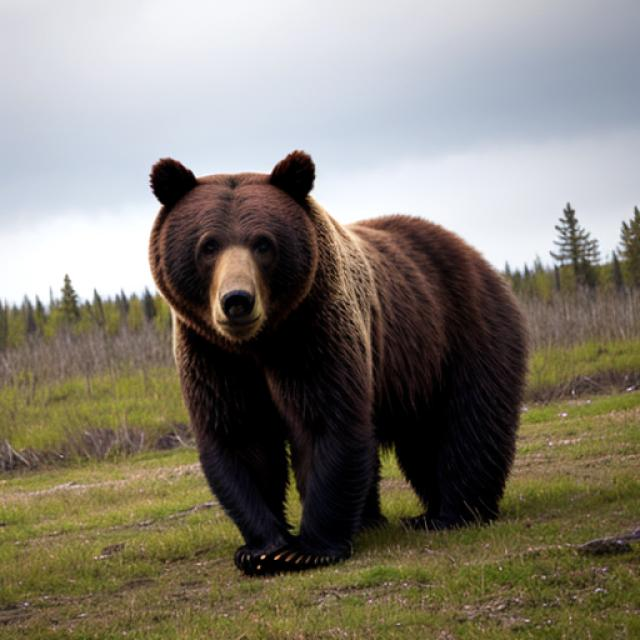bear: (123, 135, 567, 593)
